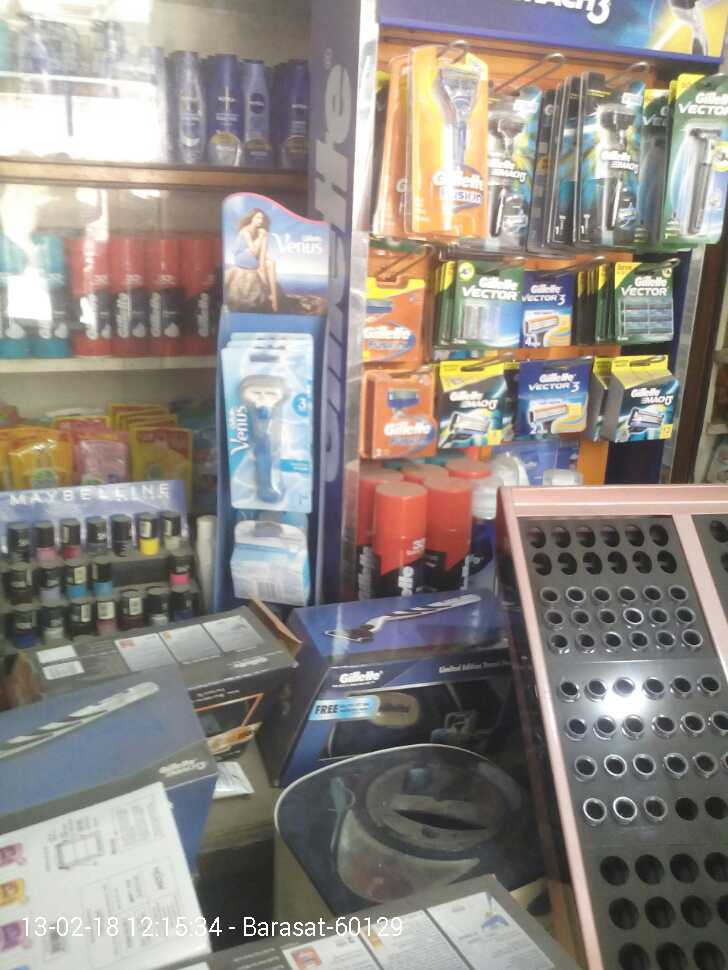beauty: (407, 47, 486, 247), (224, 333, 313, 509), (569, 84, 646, 243), (674, 74, 728, 239), (489, 87, 530, 245), (439, 366, 515, 451), (366, 371, 439, 457), (69, 236, 119, 357), (446, 260, 516, 342), (609, 257, 678, 339), (516, 357, 586, 431), (184, 231, 221, 363), (516, 274, 578, 351), (616, 369, 681, 442), (150, 237, 186, 365), (118, 236, 150, 354)
